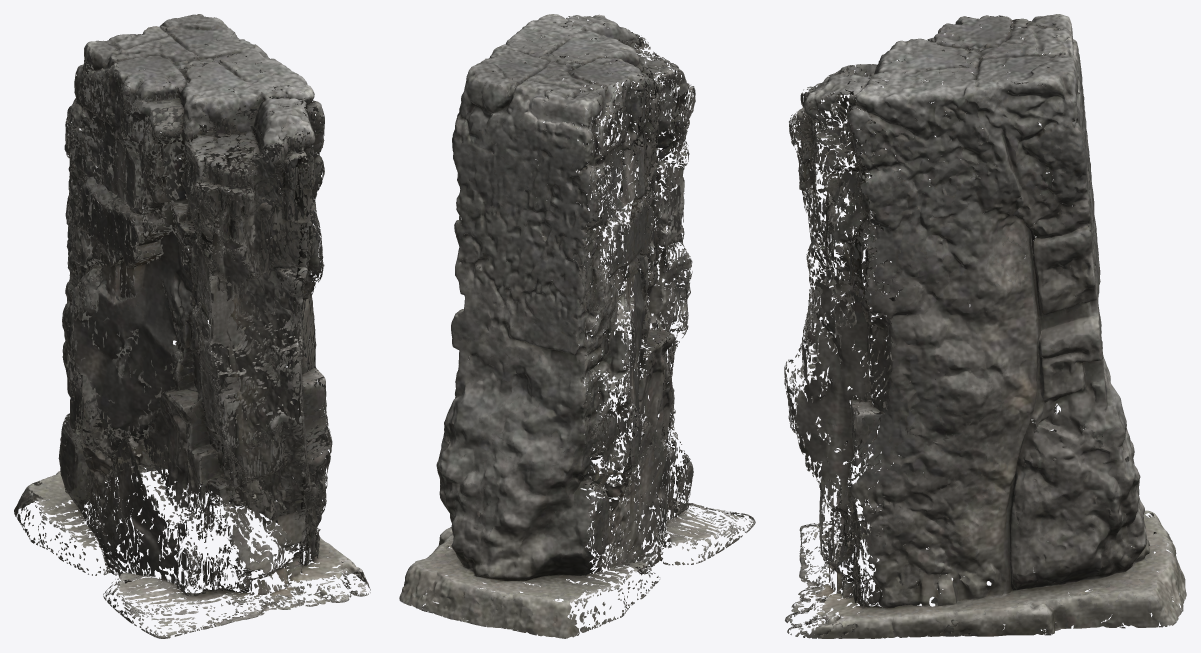
File: mid_tier_mountain_pillar.raw.glb
The picture shows the model from 3 angles, left to right: view 1: azimuth 30°, elevation 25°; view 2: azimuth 150°, elevation 25°; view 3: azimuth 270°, elevation 25°; orthographic projection. The views are drawn at different scales.
Parts seen in each view (by area): view 1: world; view 2: world; view 3: world.
Part boxes in pixels (left/top/right/bottom): world: left=14, top=14, right=370, bottom=638; world: left=399, top=14, right=755, bottom=638; world: left=784, top=14, right=1186, bottom=638.
Bounding box in the file's own units: 0.4567 × 0.9992 × 0.6756.
1 material, 1 textured.
